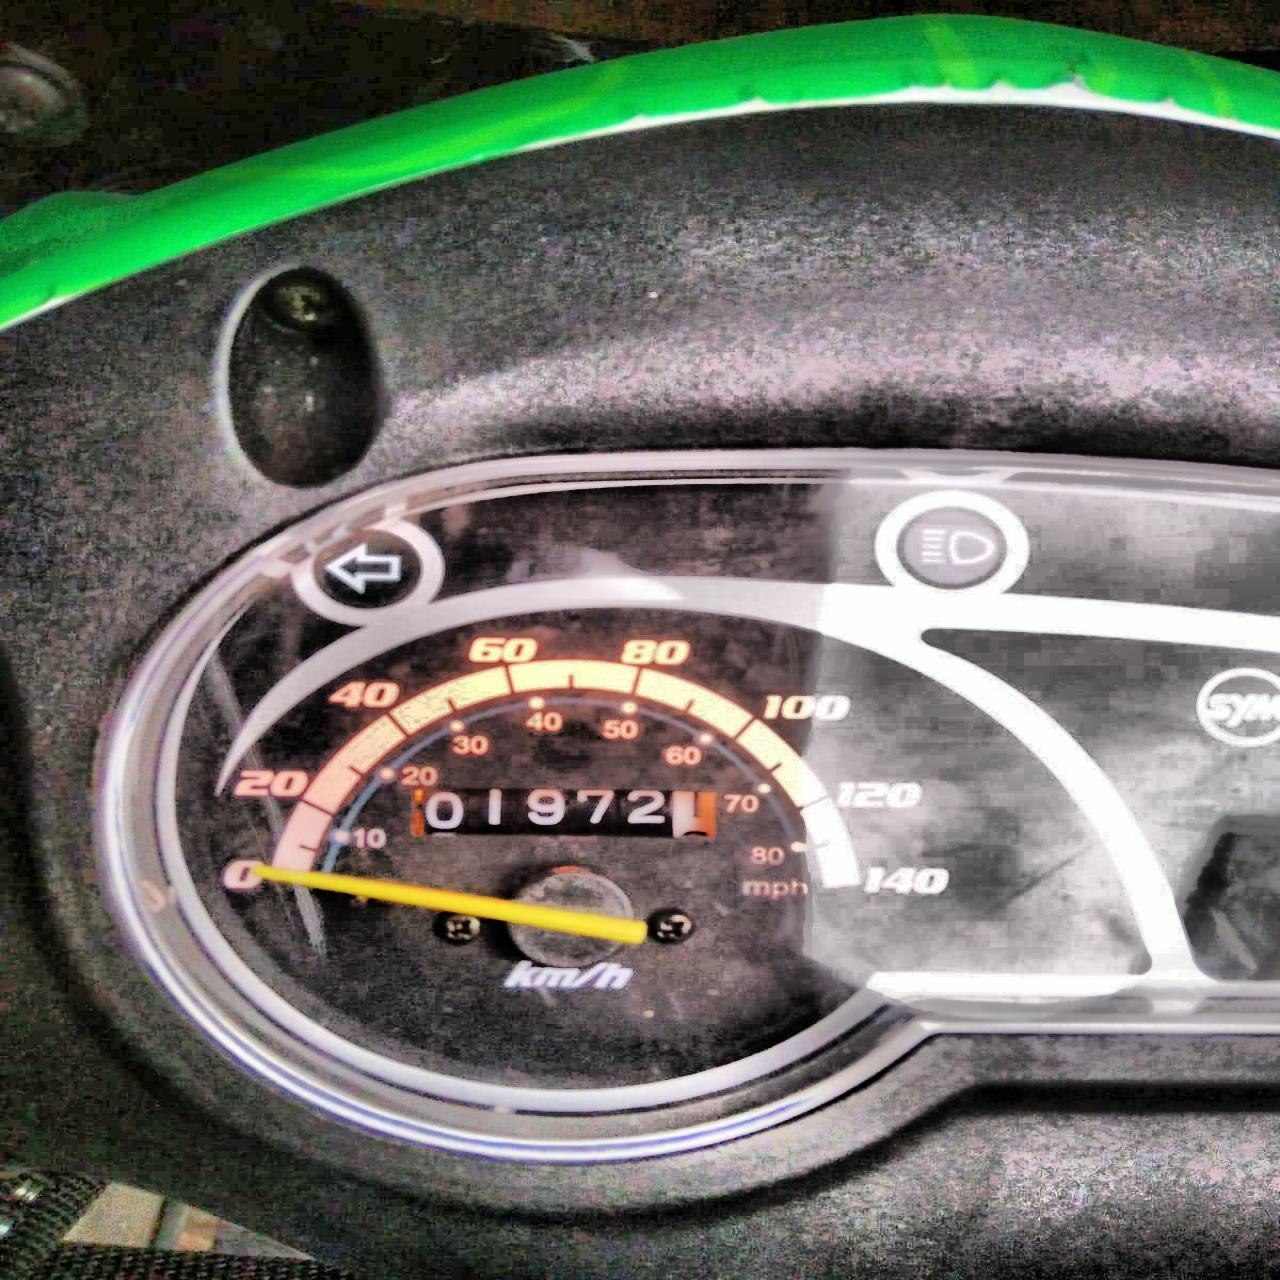0: (424, 790, 467, 831)
1: (482, 787, 508, 828), (683, 788, 710, 821)
2: (626, 790, 668, 826)
7: (576, 788, 614, 826)
9: (525, 789, 566, 826)
odometer: (390, 784, 728, 852)
